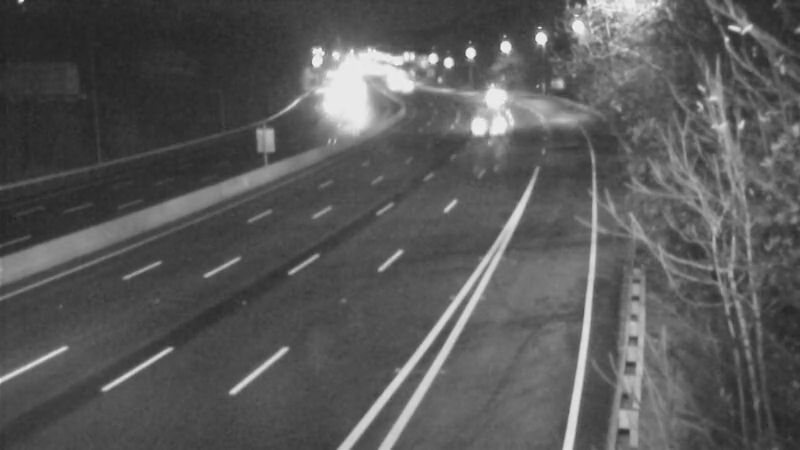vehicle: (462, 70, 512, 120), (468, 101, 518, 151)
